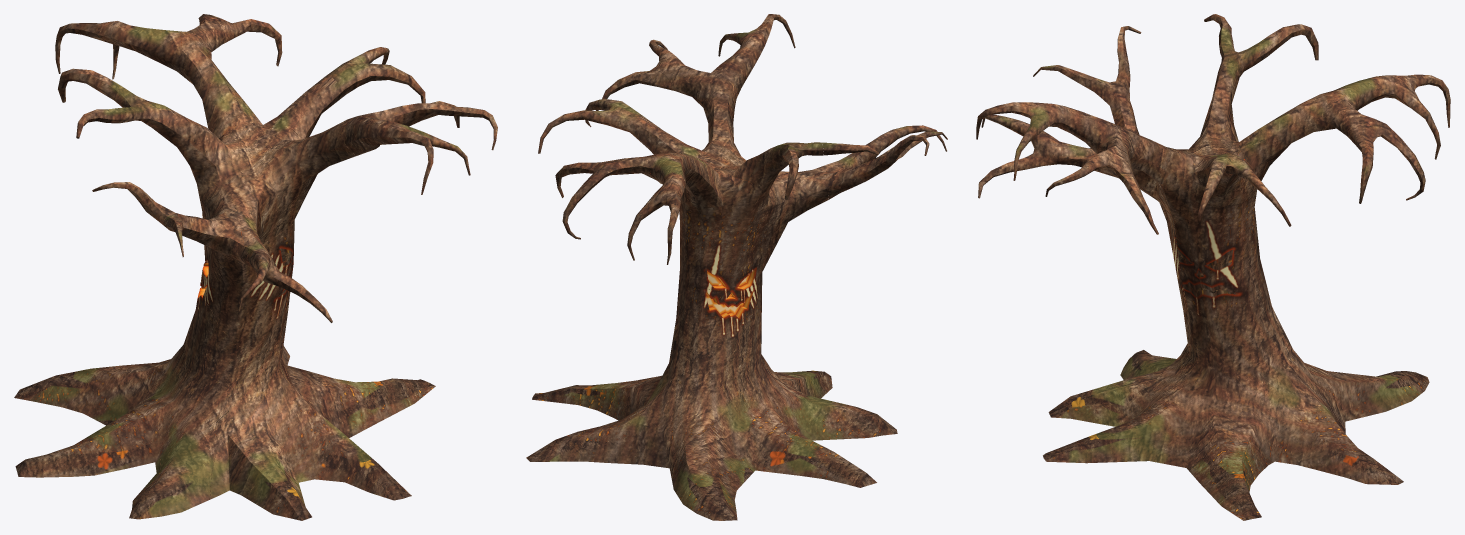
File: Pumpkin_Tree_Drop.fbx
The picture shows the model from 3 angles, left to right: view 1: azimuth 30°, elevation 25°; view 2: azimuth 150°, elevation 25°; view 3: azimuth 270°, elevation 25°; orthographic projection. The views are drawn at different scales.
Parts seen in each view (by area): view 1: Pumpkin_Tree_Drop.000, Pumpkin_Tree_Drop.008, Pumpkin_Tree_Drop.006, Pumpkin_Tree_Drop.009, Pumpkin_Tree_Drop.003, Pumpkin_Tree_Drop.001, Pumpkin_Tree_Drop.002, Pumpkin_Tree_Drop.014, Pumpkin_Tree_Drop.011, Pumpkin_Tree_Drop.010, Pumpkin_Tree_Drop.005, Pumpkin_Tree_Drop.016; view 2: Pumpkin_Tree_Drop.000, Pumpkin_Tree_Drop.008, Pumpkin_Tree_Drop.009, Pumpkin_Tree_Drop.006, Pumpkin_Tree_Drop.001, Pumpkin_Tree_Drop.002, Pumpkin_Tree_Drop.003, Pumpkin_Tree_Drop.014, Pumpkin_Tree_Drop.011, Pumpkin_Tree_Drop.010, Pumpkin_Tree_Drop.012, Pumpkin_Tree_Drop.016; view 3: Pumpkin_Tree_Drop.000, Pumpkin_Tree_Drop.009, Pumpkin_Tree_Drop.006, Pumpkin_Tree_Drop.003, Pumpkin_Tree_Drop.001, Pumpkin_Tree_Drop.014, Pumpkin_Tree_Drop.011, Pumpkin_Tree_Drop.010, Pumpkin_Tree_Drop.002, Pumpkin_Tree_Drop.008, Pumpkin_Tree_Drop.005, Pumpkin_Tree_Drop.012.
Boxes of the visible parts, left/top/right/bottom form: Pumpkin_Tree_Drop.000: left=14, top=304, right=435, bottom=520; Pumpkin_Tree_Drop.008: left=15, top=277, right=270, bottom=519; Pumpkin_Tree_Drop.006: left=112, top=88, right=362, bottom=264; Pumpkin_Tree_Drop.009: left=190, top=113, right=294, bottom=348; Pumpkin_Tree_Drop.003: left=180, top=14, right=282, bottom=120; Pumpkin_Tree_Drop.001: left=340, top=103, right=497, bottom=194; Pumpkin_Tree_Drop.002: left=256, top=47, right=425, bottom=138; Pumpkin_Tree_Drop.014: left=55, top=21, right=186, bottom=78; Pumpkin_Tree_Drop.011: left=92, top=182, right=253, bottom=269; Pumpkin_Tree_Drop.010: left=239, top=229, right=331, bottom=320; Pumpkin_Tree_Drop.005: left=58, top=68, right=124, bottom=102; Pumpkin_Tree_Drop.016: left=76, top=108, right=126, bottom=138; Pumpkin_Tree_Drop.000: left=526, top=299, right=832, bottom=520; Pumpkin_Tree_Drop.008: left=677, top=288, right=897, bottom=487; Pumpkin_Tree_Drop.009: left=678, top=162, right=782, bottom=312; Pumpkin_Tree_Drop.006: left=693, top=89, right=828, bottom=232; Pumpkin_Tree_Drop.001: left=649, top=14, right=795, bottom=105; Pumpkin_Tree_Drop.002: left=538, top=98, right=694, bottom=156; Pumpkin_Tree_Drop.003: left=555, top=152, right=709, bottom=239; Pumpkin_Tree_Drop.014: left=632, top=155, right=689, bottom=260; Pumpkin_Tree_Drop.011: left=826, top=131, right=947, bottom=199; Pumpkin_Tree_Drop.010: left=822, top=125, right=945, bottom=169; Pumpkin_Tree_Drop.012: left=596, top=70, right=673, bottom=110; Pumpkin_Tree_Drop.016: left=822, top=142, right=878, bottom=155; Pumpkin_Tree_Drop.000: left=1043, top=304, right=1429, bottom=520; Pumpkin_Tree_Drop.009: left=1167, top=131, right=1275, bottom=330; Pumpkin_Tree_Drop.006: left=1101, top=37, right=1261, bottom=223; Pumpkin_Tree_Drop.003: left=1241, top=92, right=1425, bottom=203; Pumpkin_Tree_Drop.001: left=976, top=102, right=1134, bottom=196; Pumpkin_Tree_Drop.014: left=1321, top=74, right=1450, bottom=125; Pumpkin_Tree_Drop.011: left=1033, top=26, right=1141, bottom=148; Pumpkin_Tree_Drop.010: left=978, top=113, right=1096, bottom=194; Pumpkin_Tree_Drop.002: left=1197, top=151, right=1291, bottom=226; Pumpkin_Tree_Drop.008: left=1120, top=264, right=1275, bottom=379; Pumpkin_Tree_Drop.005: left=1258, top=24, right=1318, bottom=60; Pumpkin_Tree_Drop.012: left=1119, top=161, right=1158, bottom=234.
Bounding box in the file's own units: 572 × 512 × 623.
